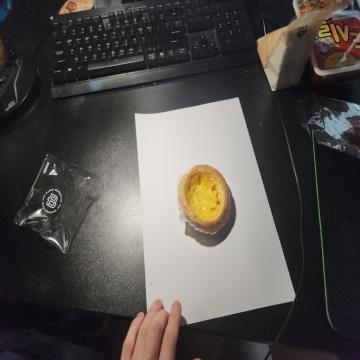EggTart: (177, 162, 230, 229)
